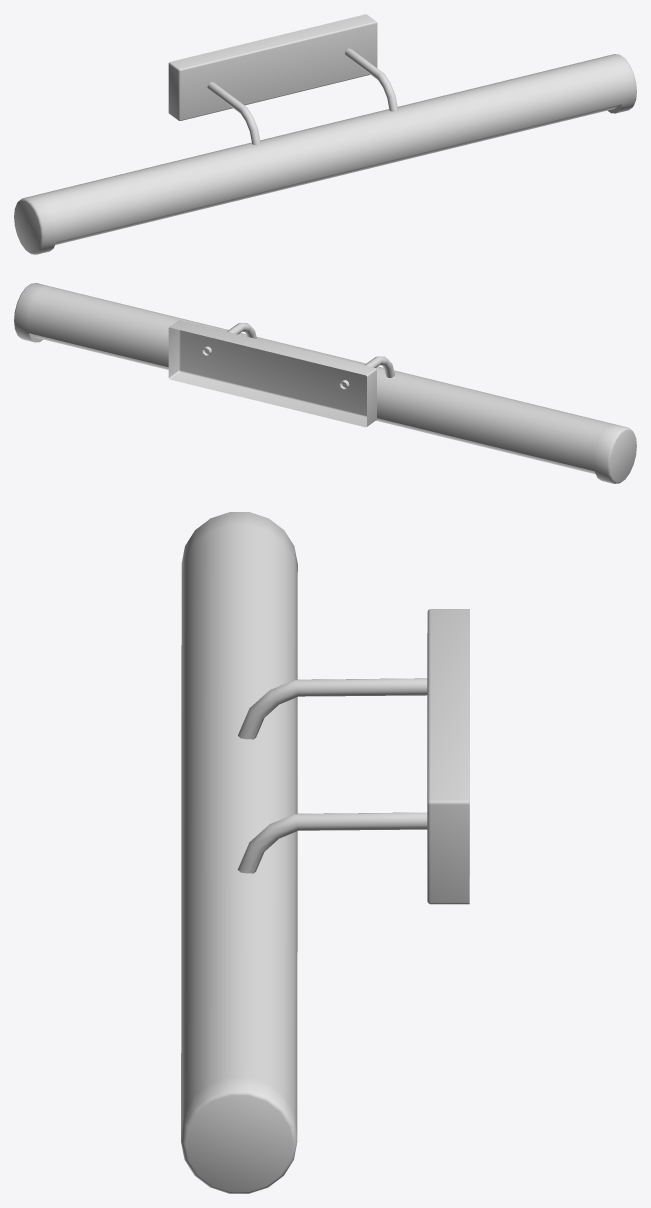
The model's file is Lamp_03.FBX.
The picture shows the model from 3 angles, top to bottom: view 1: azimuth 30°, elevation 25°; view 2: azimuth 150°, elevation 25°; view 3: azimuth 270°, elevation 25°; orthographic projection. The views are drawn at different scales.
Visible parts, largest first — view 1: Lamp_03; view 2: Lamp_03; view 3: Lamp_03.
Boxes of the visible parts, <box> form: Lamp_03: <box>14,14,636,254</box>; Lamp_03: <box>14,283,636,483</box>; Lamp_03: <box>181,512,469,1193</box>.
Bounding box in the file's own units: 0.6 × 0.0963 × 0.126.
